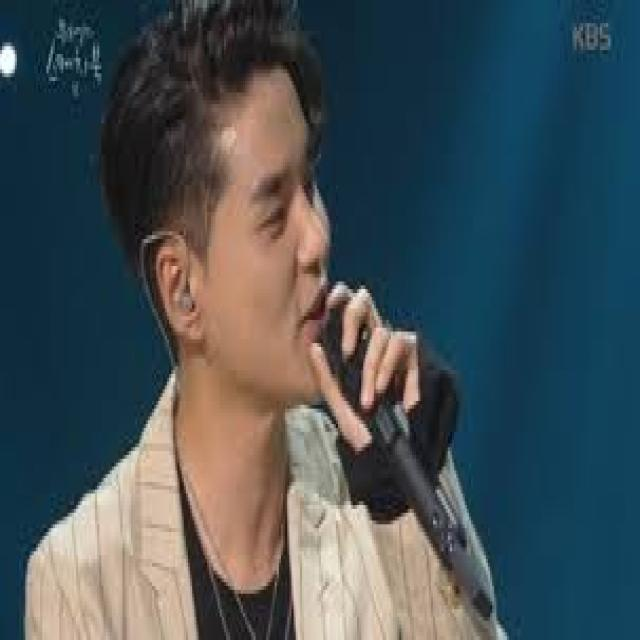earphone: (148, 260, 202, 335)
